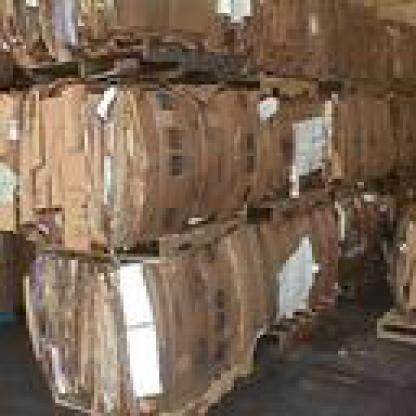CARDBOARD: (20, 224, 250, 413), (17, 75, 176, 250), (224, 198, 338, 338), (0, 0, 224, 62), (244, 78, 325, 195), (176, 81, 244, 218), (224, 0, 328, 75), (325, 84, 397, 182), (315, 185, 387, 273), (0, 84, 36, 240), (380, 182, 413, 315), (370, 0, 413, 88), (328, 0, 374, 78), (380, 91, 413, 185), (0, 228, 26, 312)
